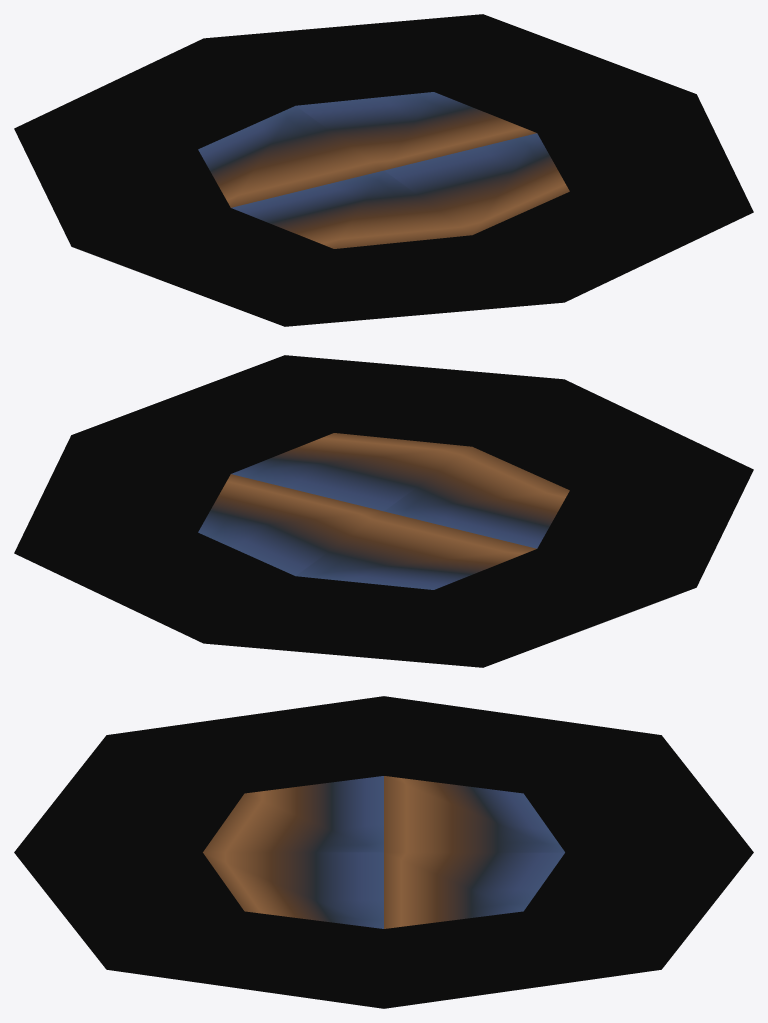
3 views of the same model, one above another, from view 1: azimuth 30°, elevation 25°; view 2: azimuth 150°, elevation 25°; view 3: azimuth 270°, elevation 25° (orthographic). The views are drawn at different scales.
Parts seen in each view (by area): view 1: T1L3M002_28; view 2: T1L3M002_28; view 3: T1L3M002_28.
Boxes of the visible parts, left/top/right/bottom form: T1L3M002_28: left=14, top=14, right=753, bottom=326; T1L3M002_28: left=14, top=355, right=753, bottom=667; T1L3M002_28: left=14, top=696, right=753, bottom=1008.
Bounding box in the file's own units: 4 × 0 × 4.
